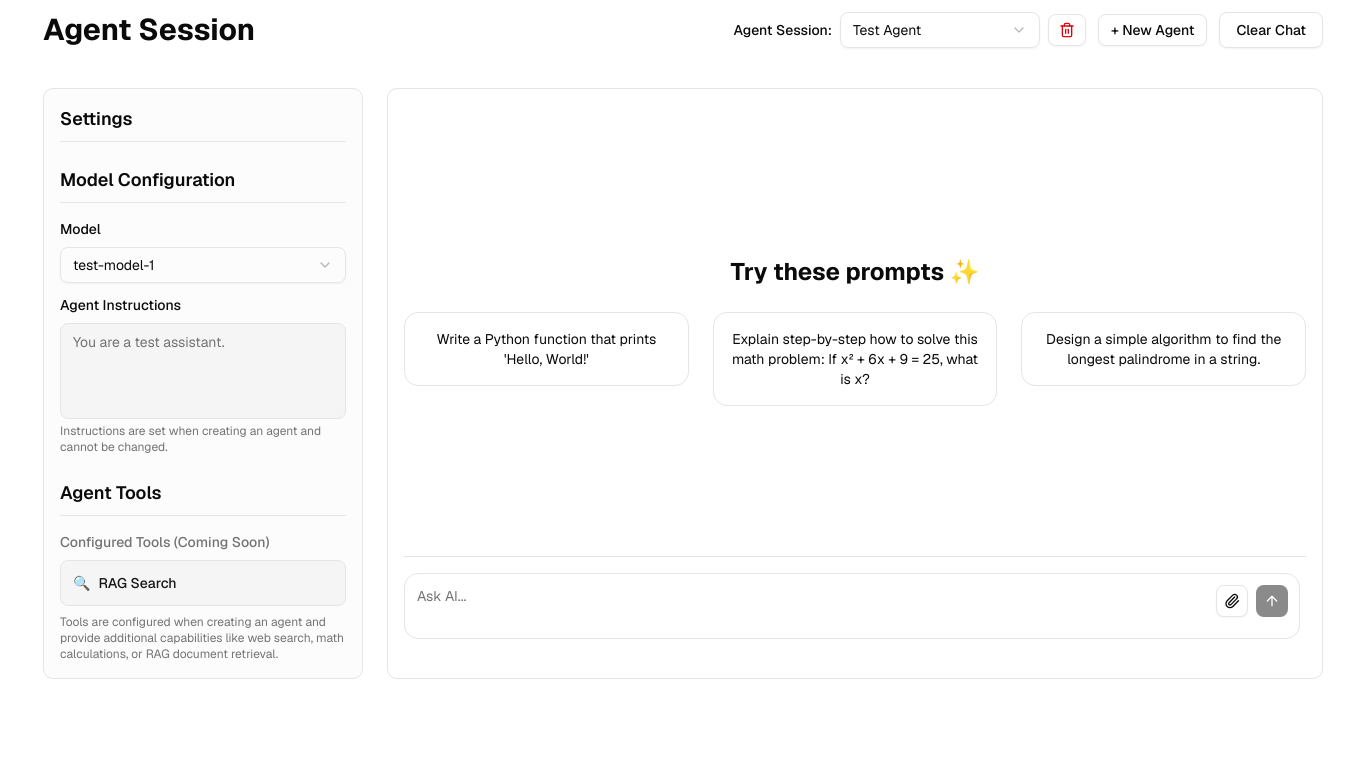
ChatPlaygroundPage › Agent Selector Rendering › shows agent options in selector
This screenshot has width=1366, height=780.
Click the dropdown labelled "Test Agent". click: (940, 30)
box: [840,12,1040,48]
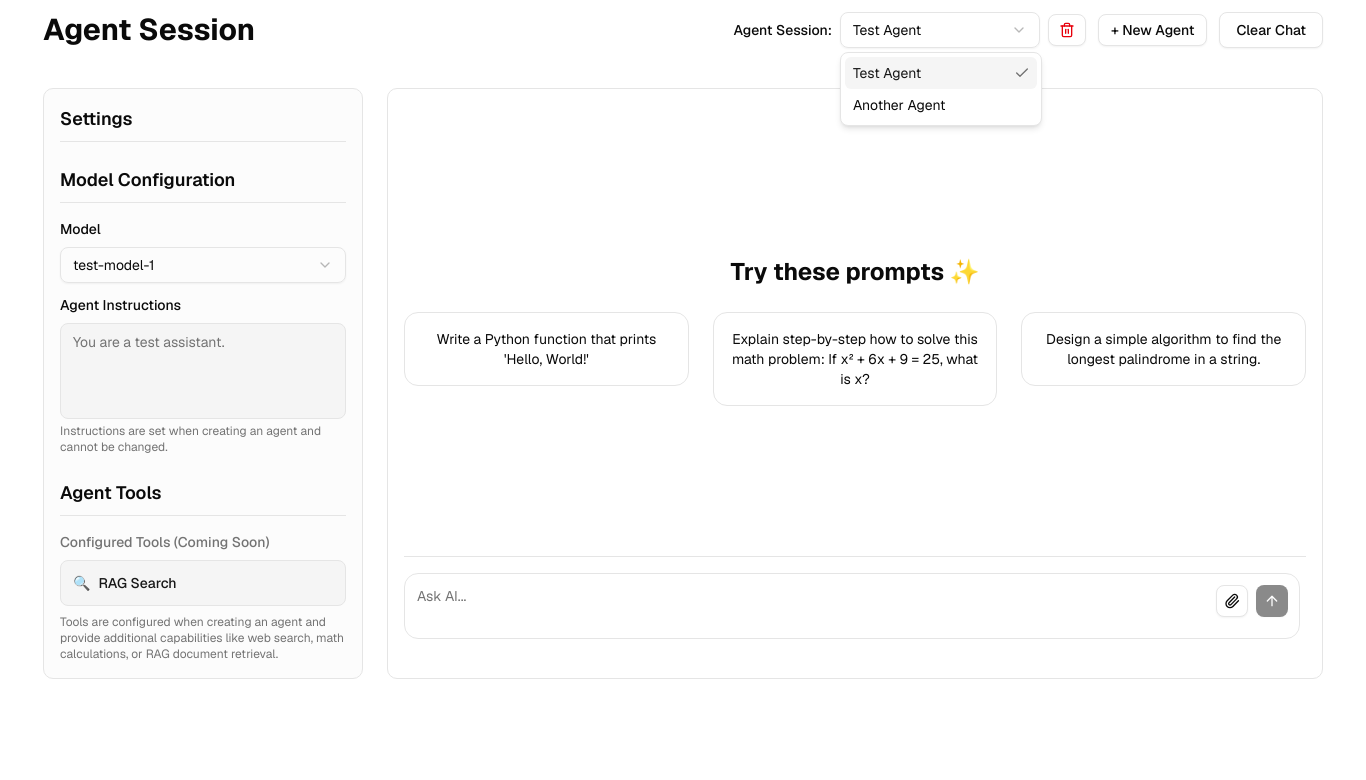
Result: the text "Test Agent" is shown 2 times at [853,20,921,40]; [853,63,921,83]
Result: the text "Another Agent" is shown at [853,95,946,115]
